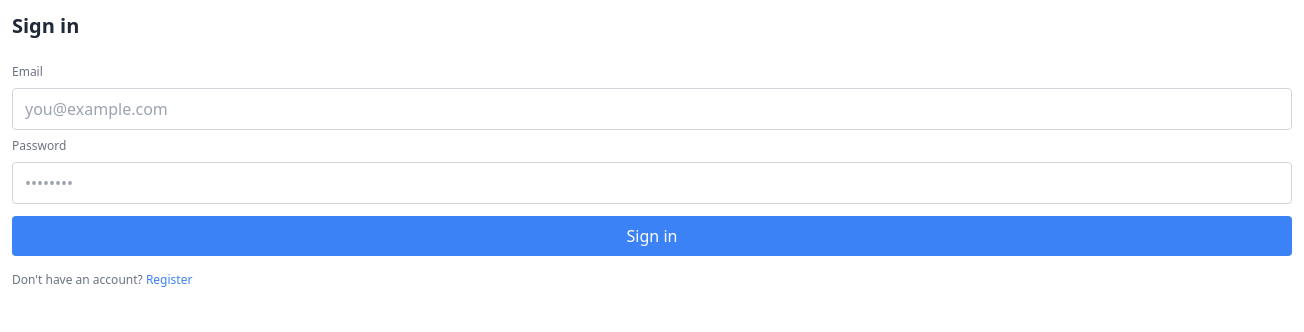
LoginForm › shows generic message for non-AuthError
In the field with placeholder "you@example.com": point(652, 109) [12, 88, 1292, 130], type "jane@example.com"
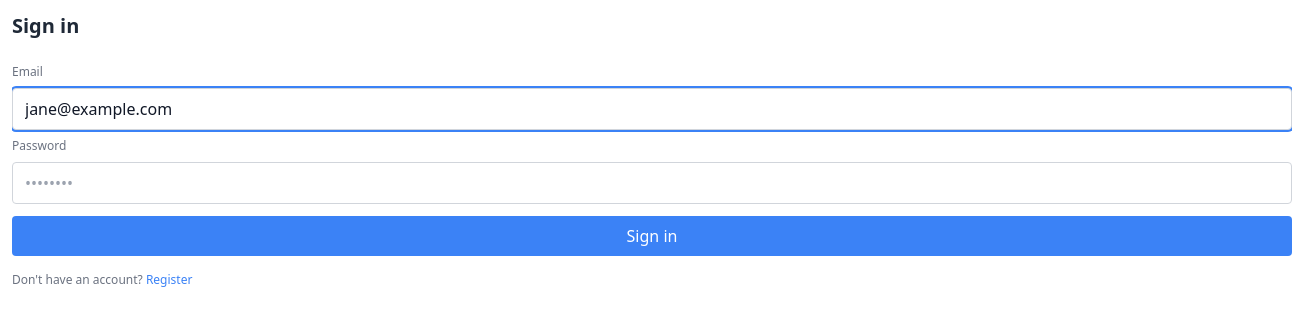
In the password field with placeholder "••••••••": point(652, 183) [12, 162, 1292, 204], type "password123"
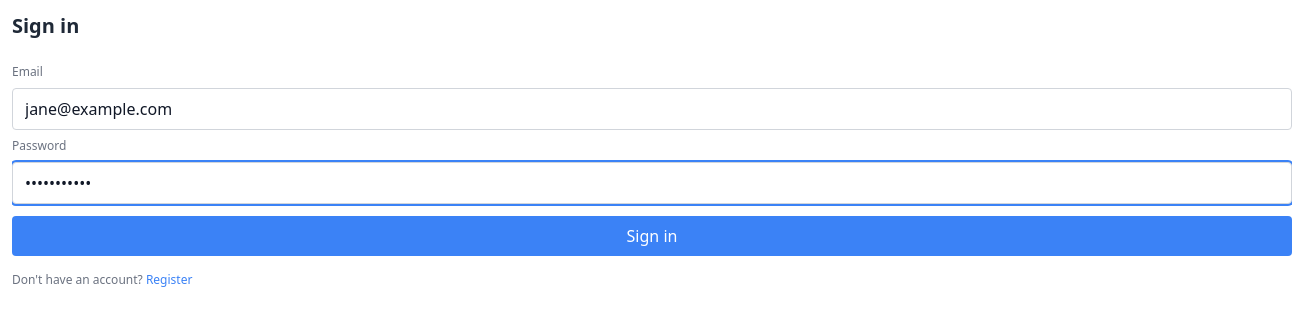
Click the button "Sign in": point(652, 236) [12, 216, 1292, 256]
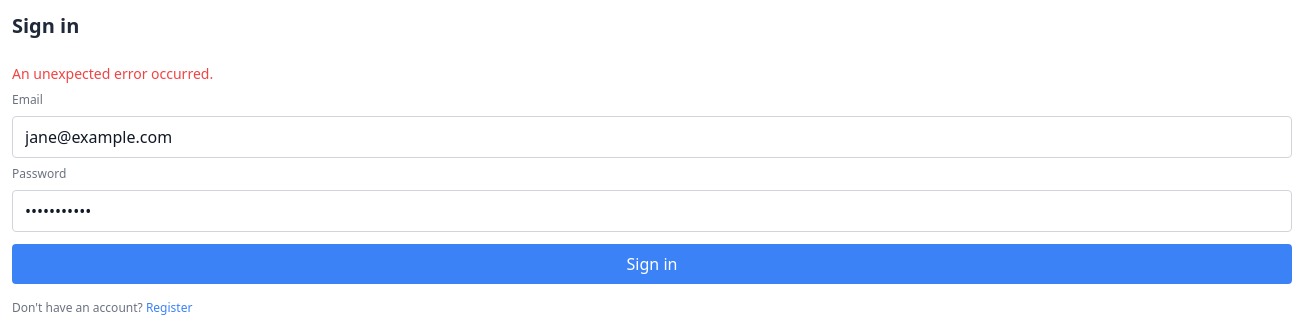
Expected: the text "An unexpected error occurred." is shown, [12, 64, 213, 83]
